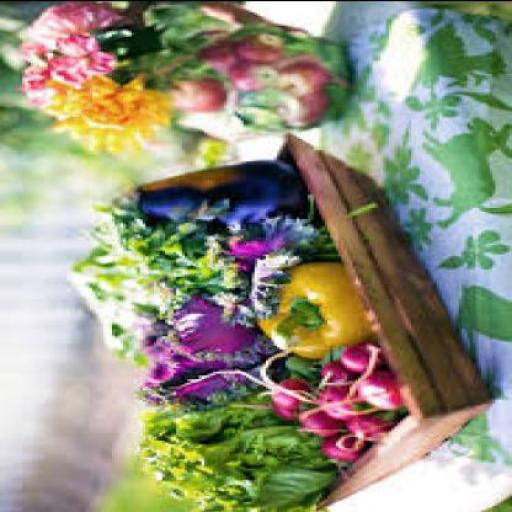biodegradable: (137, 391, 336, 510), (67, 208, 199, 363), (160, 210, 330, 322), (138, 292, 282, 408), (101, 158, 310, 230), (249, 253, 361, 357), (45, 74, 159, 154), (11, 1, 131, 53), (47, 34, 109, 78), (11, 47, 48, 106), (355, 369, 397, 408), (260, 376, 305, 408), (297, 406, 344, 436), (336, 341, 383, 370), (313, 384, 353, 416), (344, 412, 392, 438), (314, 431, 360, 458), (260, 398, 302, 416), (280, 358, 316, 376), (319, 361, 353, 380)
